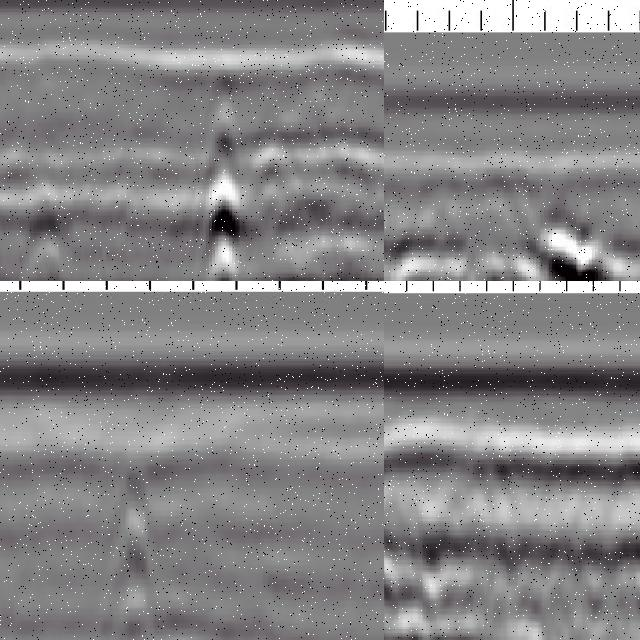crack: (200, 65, 242, 282), (111, 462, 158, 640)
loose: (385, 214, 631, 282), (385, 514, 505, 640)
